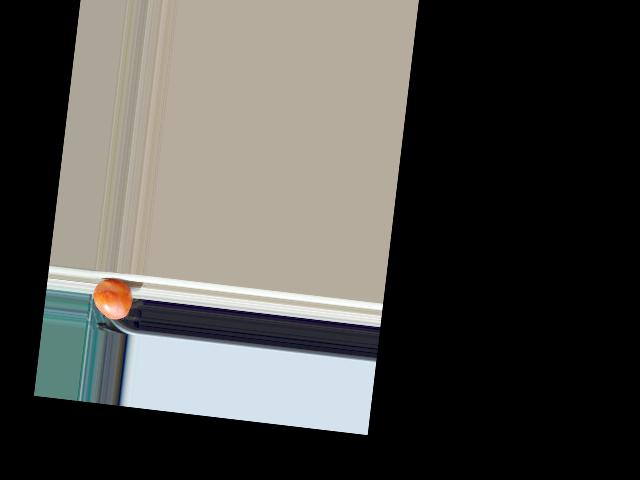tomato: (91, 278, 134, 321)
